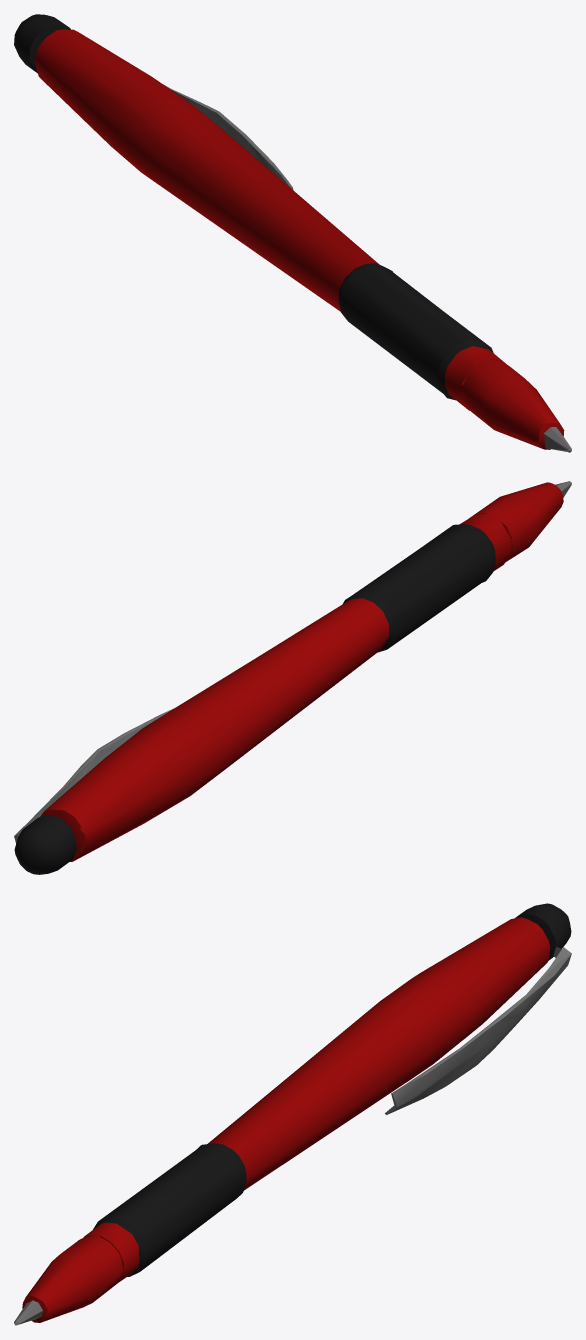
File: Pen.FBX
3 renders of one model, top to bottom at view 1: azimuth 30°, elevation 25°; view 2: azimuth 150°, elevation 25°; view 3: azimuth 330°, elevation 25°, orthographic. The views are drawn at different scales.
Parts seen in each view (by area): view 1: Pen; view 2: Pen; view 3: Pen.
Part boxes in pixels (x1,y1,x2,y2): Pen: [14, 14, 571, 452]; Pen: [14, 481, 571, 874]; Pen: [14, 903, 571, 1325].
Bounding box in the file's own units: 1.61 × 1.19 × 15.44.
Materials: 1 (1 with a texture image).
